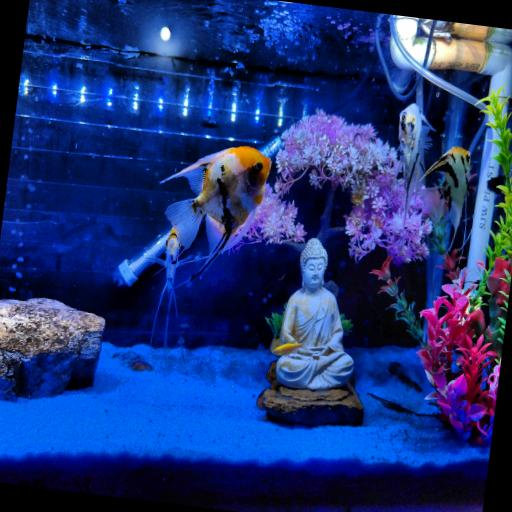Fish: (161, 147, 271, 282), (421, 147, 470, 237), (150, 229, 180, 349), (399, 104, 430, 219), (272, 343, 301, 356)
